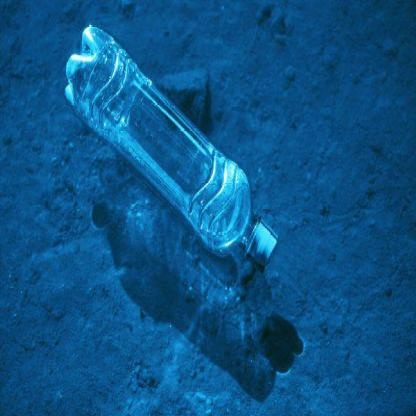pbottle: (63, 13, 286, 264)
